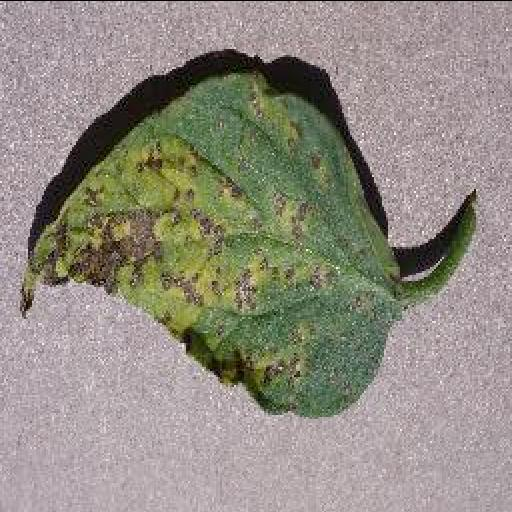disease_tomato: (14, 76, 398, 420)
